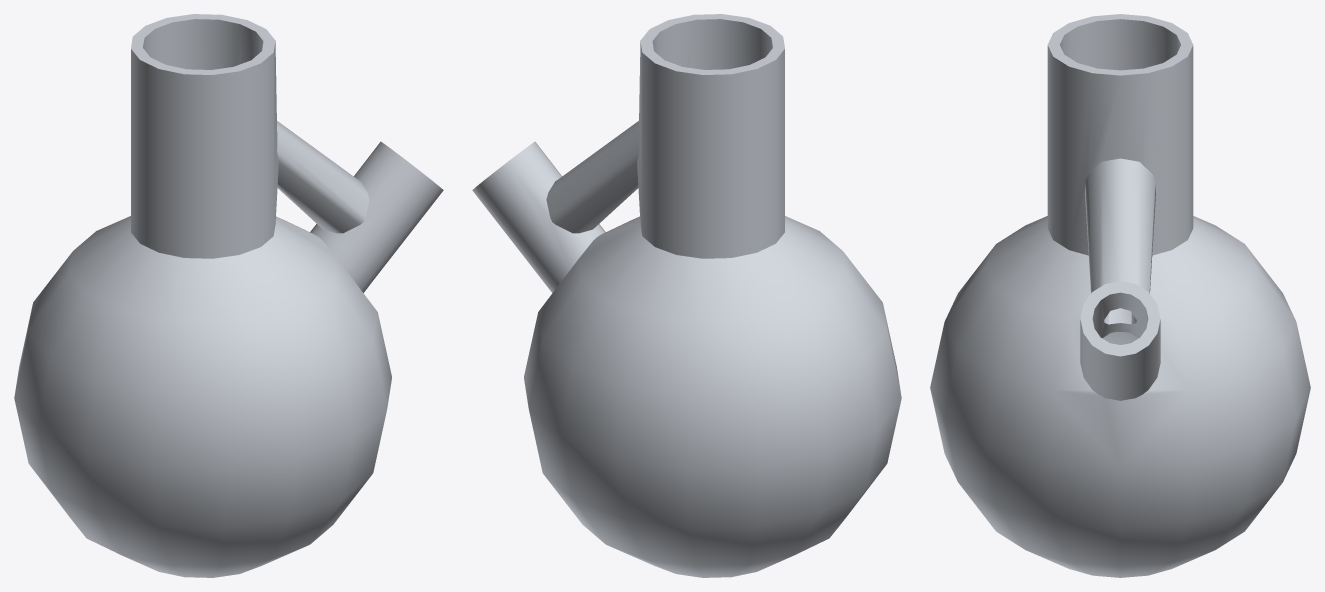
Rendered from bottle_glassware_straus_flask_medium.glb.
The picture shows the model from 3 angles, left to right: view 1: azimuth 30°, elevation 25°; view 2: azimuth 150°, elevation 25°; view 3: azimuth 270°, elevation 25°; orthographic projection.
Visible parts, largest first — view 1: bottle_glassware_straus_flask_medium; view 2: bottle_glassware_straus_flask_medium; view 3: bottle_glassware_straus_flask_medium.
Boxes of the visible parts, left/top/right/bottom form: bottle_glassware_straus_flask_medium: left=14, top=14, right=443, bottom=577; bottle_glassware_straus_flask_medium: left=472, top=14, right=901, bottom=577; bottle_glassware_straus_flask_medium: left=930, top=14, right=1310, bottom=577.
Bounding box in the file's own units: 15.19 × 18.8 × 12.58.
Materials: 1 (1 with a texture image).
